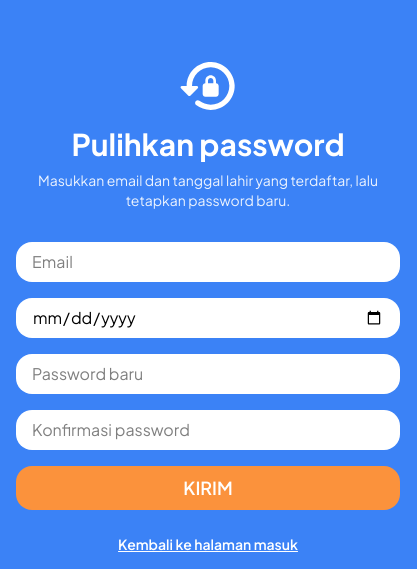
Scenario: halaman lupa password › mengembalikan pengguna ke login dengan pesan sukses saat reset berhasil
Expected: the heading "Pulihkan password" is shown, [71,125,345,163]
Type "siswa@school.test" into the field labelled "Email" at x=208, y=262, box [16,242,400,282]
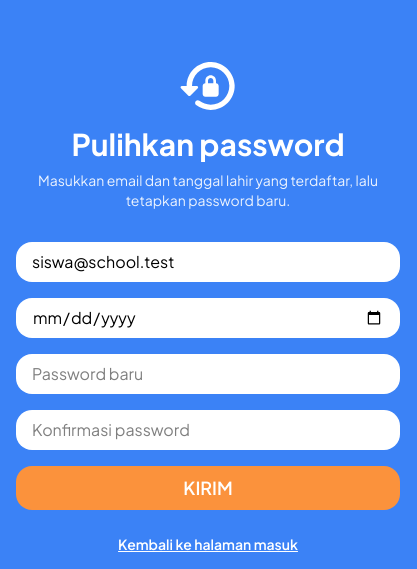
Type "2005-03-14" into the date field named "Tanggal lahir" at x=208, y=318, box [16,298,400,338]
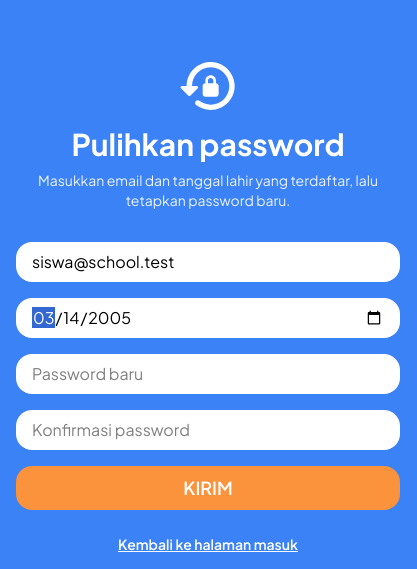
Type "password-123" into the password field labelled "Password baru" at x=208, y=374, box [16,354,400,394]
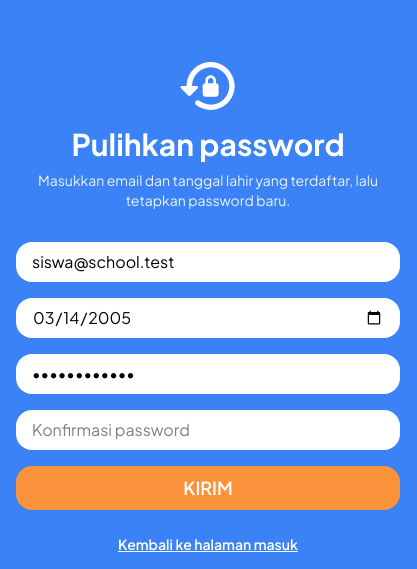
Type "password-123" into the password field labelled "Konfirmasi password" at x=208, y=430, box [16,410,400,450]
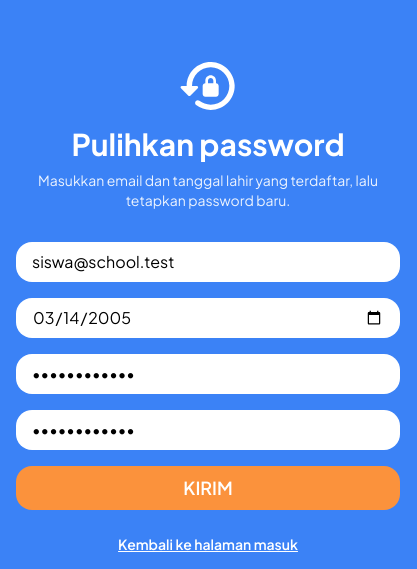
Click the button "Kirim" at x=208, y=488, box [16,466,400,510]
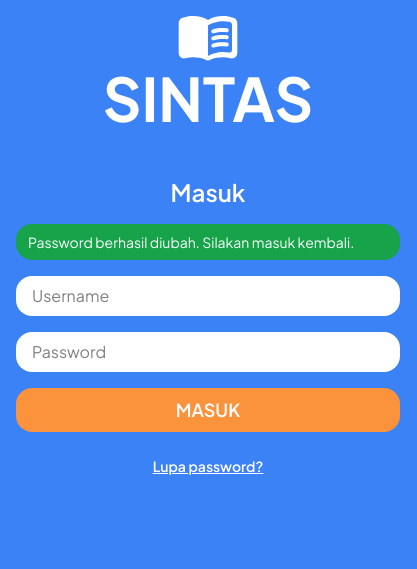
Result: the heading "Masuk" is shown at [171,176,245,208]
Result: the text "Password berhasil diubah. Silakan masuk kembali." is shown at [16,224,400,260]
